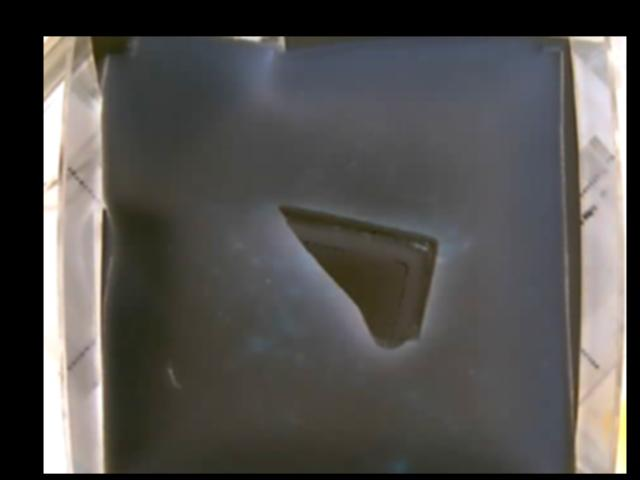China: (273, 203, 440, 351)
